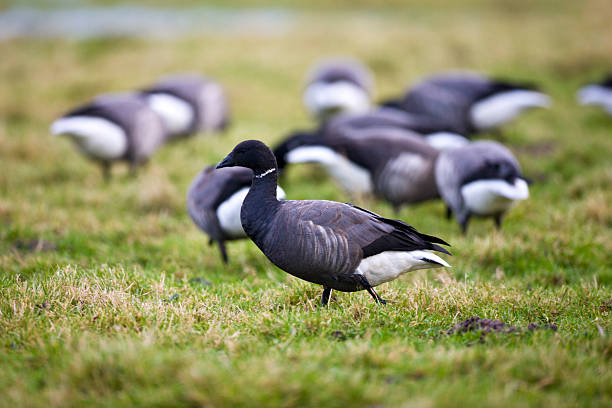goose: (208, 133, 461, 320), (46, 87, 166, 214), (433, 135, 543, 266)
